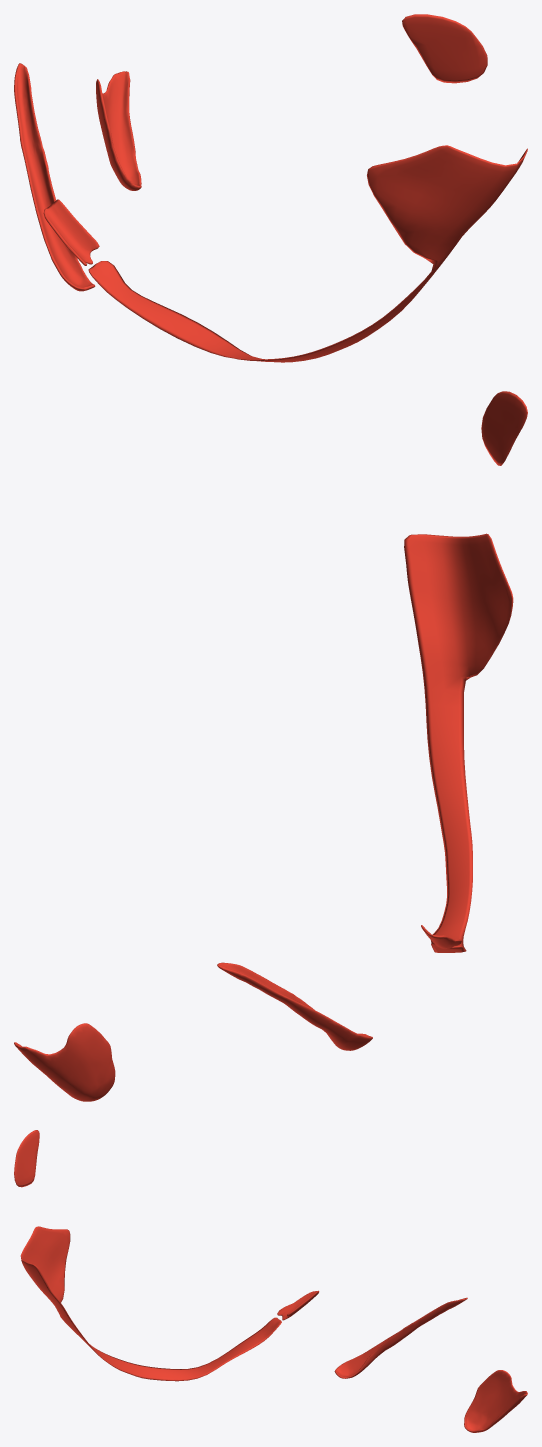
Rendered from Internal_abdominal_oblique-Thoracic_insertions.r_Generated_Mesh.glb.
3 views of the same model, one above another, from view 1: azimuth 30°, elevation 25°; view 2: azimuth 150°, elevation 25°; view 3: azimuth 270°, elevation 25° (orthographic). The views are drawn at different scales.
Parts seen in each view (by area): view 1: Internal_abdominal_oblique-Thoracic_insertions.r_Generated_M; view 2: Internal_abdominal_oblique-Thoracic_insertions.r_Generated_M; view 3: Internal_abdominal_oblique-Thoracic_insertions.r_Generated_M.
Part boxes in pixels (x1=…): Internal_abdominal_oblique-Thoracic_insertions.r_Generated_M: x1=14, y1=14, x2=527, y2=362; Internal_abdominal_oblique-Thoracic_insertions.r_Generated_M: x1=14, y1=391, x2=527, y2=1101; Internal_abdominal_oblique-Thoracic_insertions.r_Generated_M: x1=14, y1=1130, x2=527, y2=1432.
Size of the model in its own units: 0.0534 by 0.0883 by 0.1467.
